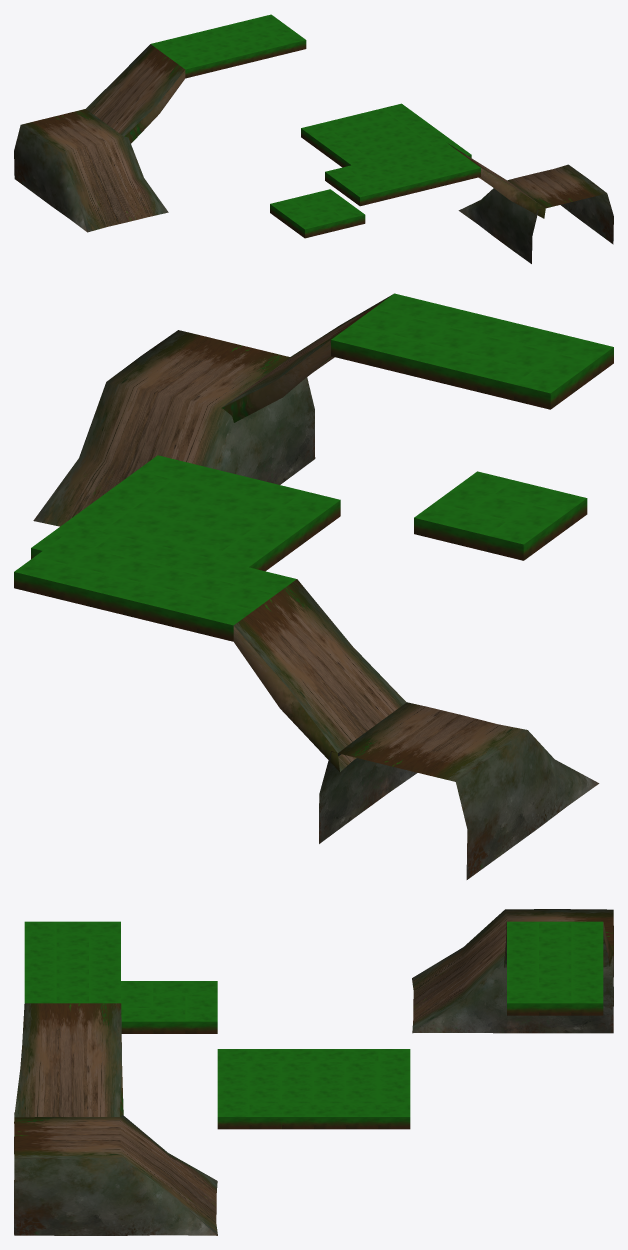
Rendered from Stage_Block_4_5.fbx.
3 renders of one model, top to bottom at view 1: azimuth 30°, elevation 25°; view 2: azimuth 150°, elevation 25°; view 3: azimuth 270°, elevation 25°, orthographic. The views are drawn at different scales.
Visible parts, largest first — view 1: Stage_Block_4_5_11, Stage_Block_4_5_12, Stage_Block_4_5_13, Stage_Block_4_5_2; view 2: Stage_Block_4_5_11, Stage_Block_4_5_12, Stage_Block_4_5_13, Stage_Block_4_5_2; view 3: Stage_Block_4_5_12, Stage_Block_4_5_11, Stage_Block_4_5_13, Stage_Block_4_5_2.
Boxes of the visible parts, left/top/right/bottom form: Stage_Block_4_5_11: left=14, top=14, right=306, bottom=232; Stage_Block_4_5_12: left=325, top=142, right=613, bottom=263; Stage_Block_4_5_13: left=301, top=103, right=471, bottom=167; Stage_Block_4_5_2: left=270, top=189, right=365, bottom=238; Stage_Block_4_5_11: left=14, top=525, right=599, bottom=879; Stage_Block_4_5_12: left=33, top=293, right=613, bottom=526; Stage_Block_4_5_13: left=31, top=455, right=340, bottom=571; Stage_Block_4_5_2: left=414, top=471, right=587, bottom=560; Stage_Block_4_5_12: left=14, top=921, right=217, bottom=1235; Stage_Block_4_5_11: left=412, top=909, right=613, bottom=1033; Stage_Block_4_5_13: left=217, top=1049, right=410, bottom=1129; Stage_Block_4_5_2: left=121, top=981, right=217, bottom=1033.
Bounding box in the file's own units: 3797 × 1000 × 3731.
2 materials, 2 textured.
